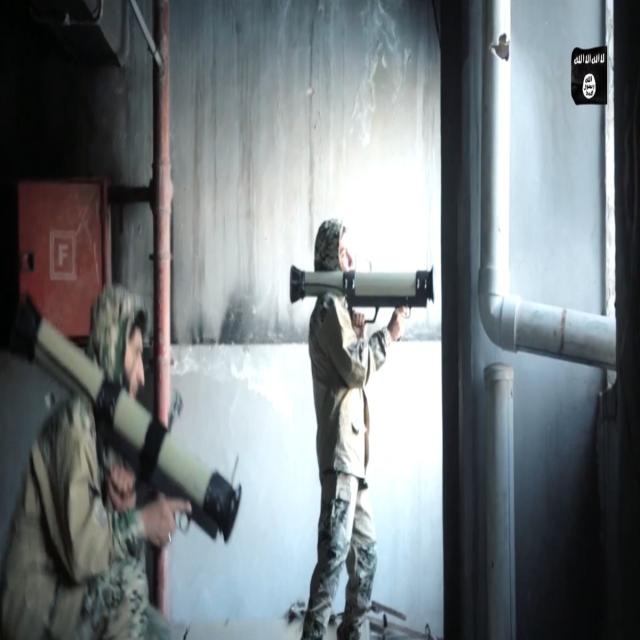bazooka: (4, 254, 262, 580), (276, 226, 446, 345)
